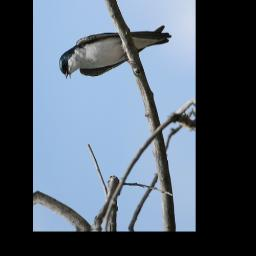Swallow: (59, 26, 173, 81)
